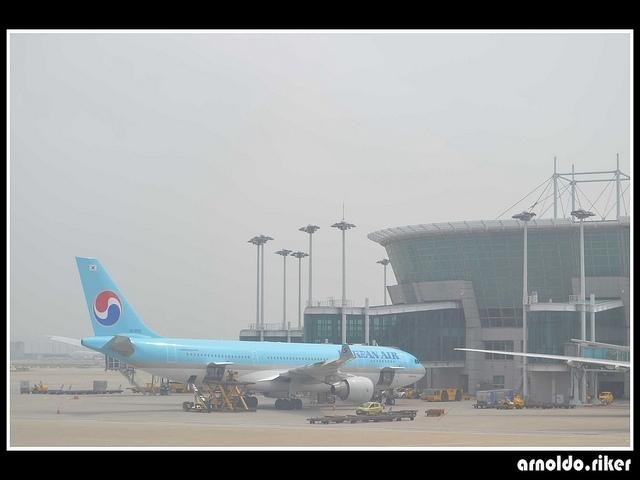car: (356, 402, 382, 415), (598, 392, 614, 404)
truck: (473, 389, 515, 410), (93, 381, 107, 394), (20, 382, 30, 394)
